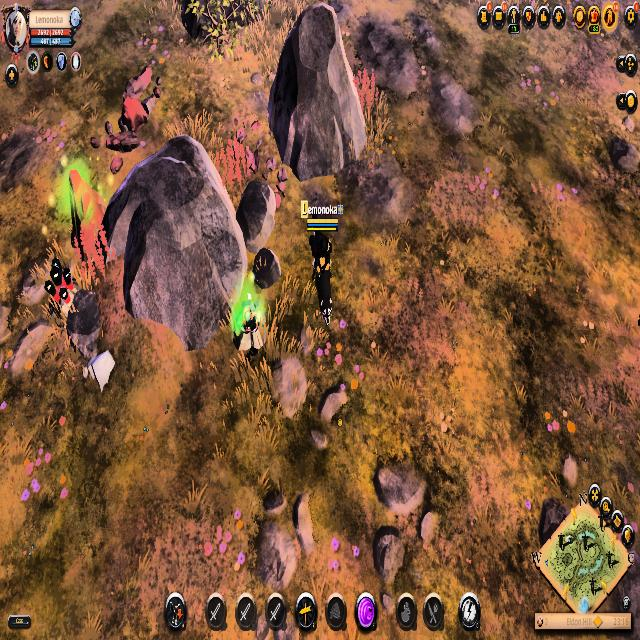ore tier 5: (44, 253, 80, 321)
rock tier 5: (67, 170, 112, 258)
